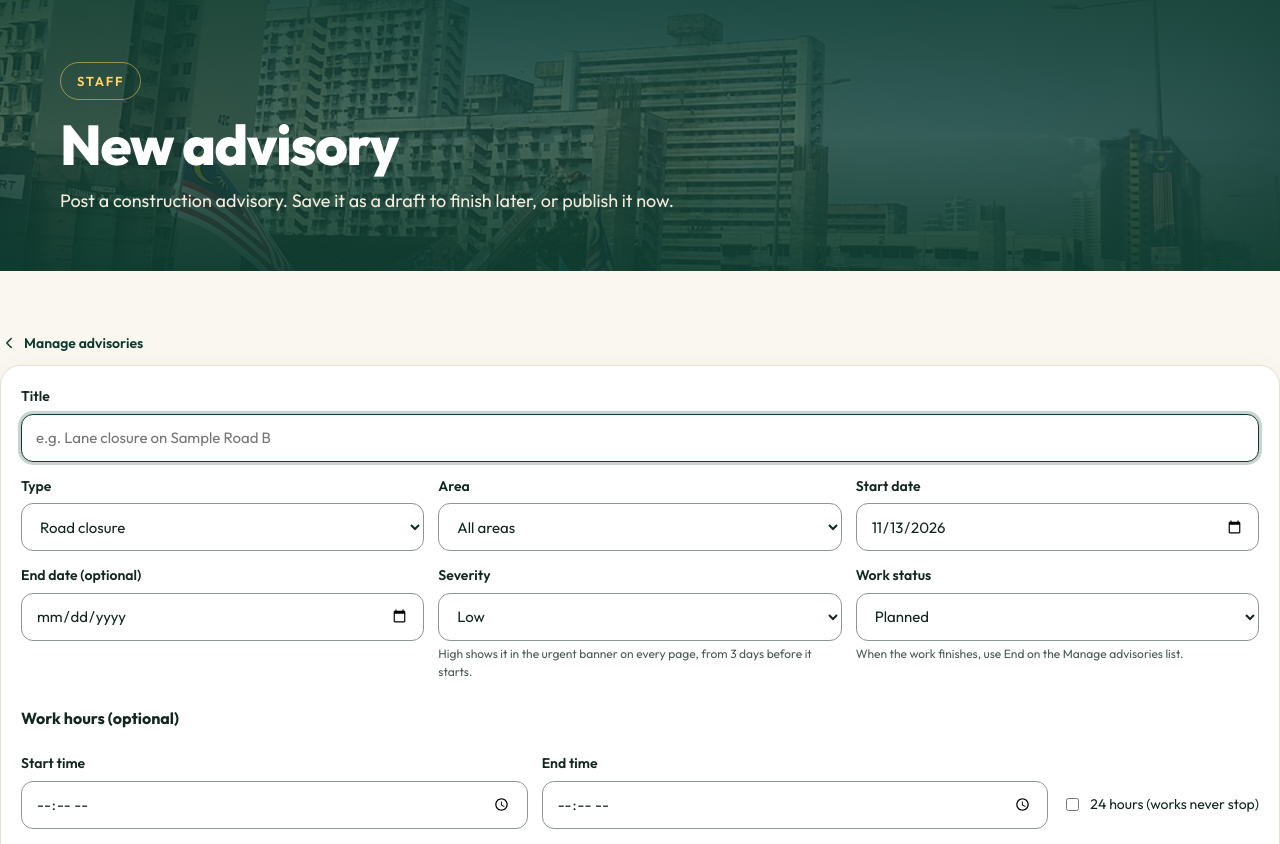
Test: Advisory form: the work hours pickers › refuses the same start and end time
Type "Night lane closure" into the field labelled "Title" at (640, 438), box [21,414,1259,462]
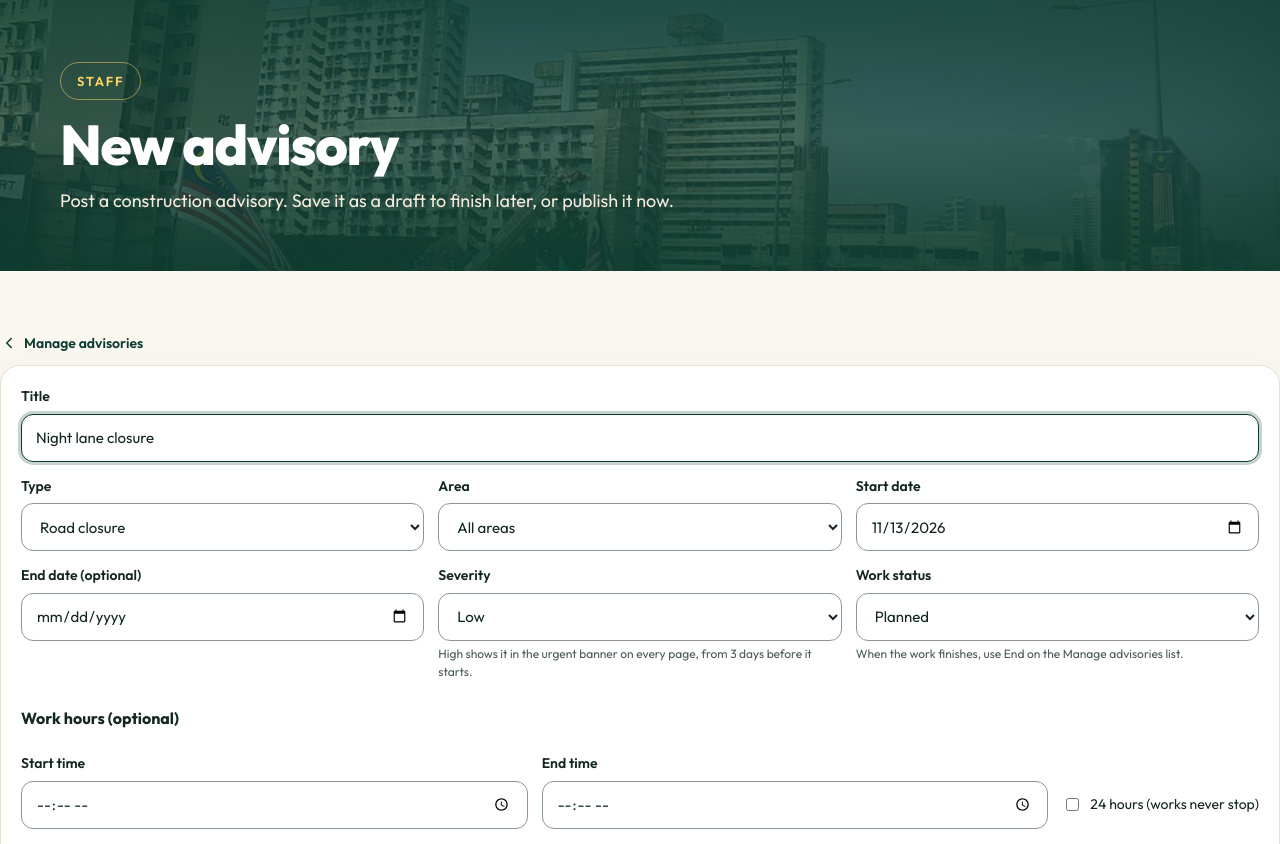
Type "09:00" into the time field labelled "Start time" at (274, 805), box [21,781,528,829]
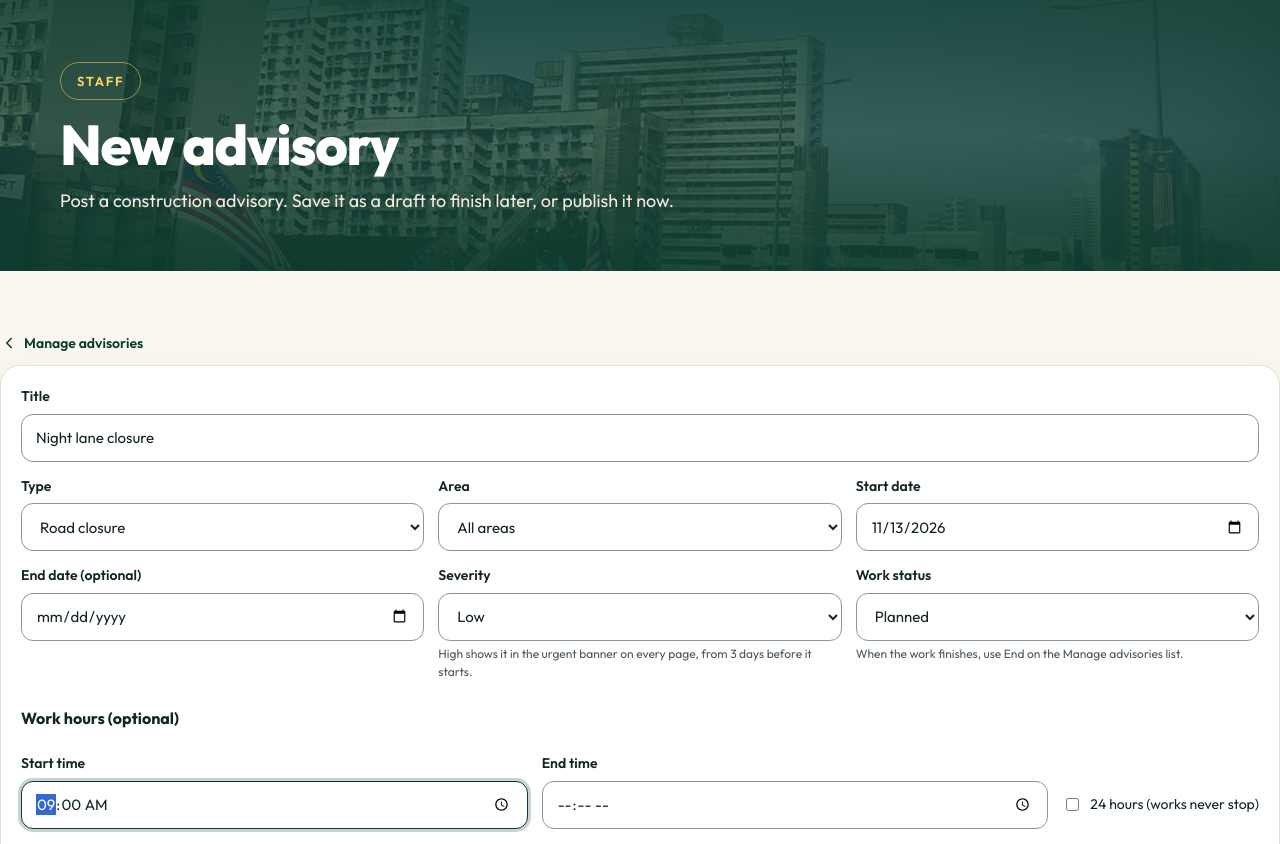
Type "09:00" into the time field labelled "End time" at (795, 805), box [542,781,1048,829]
(page scrolled)
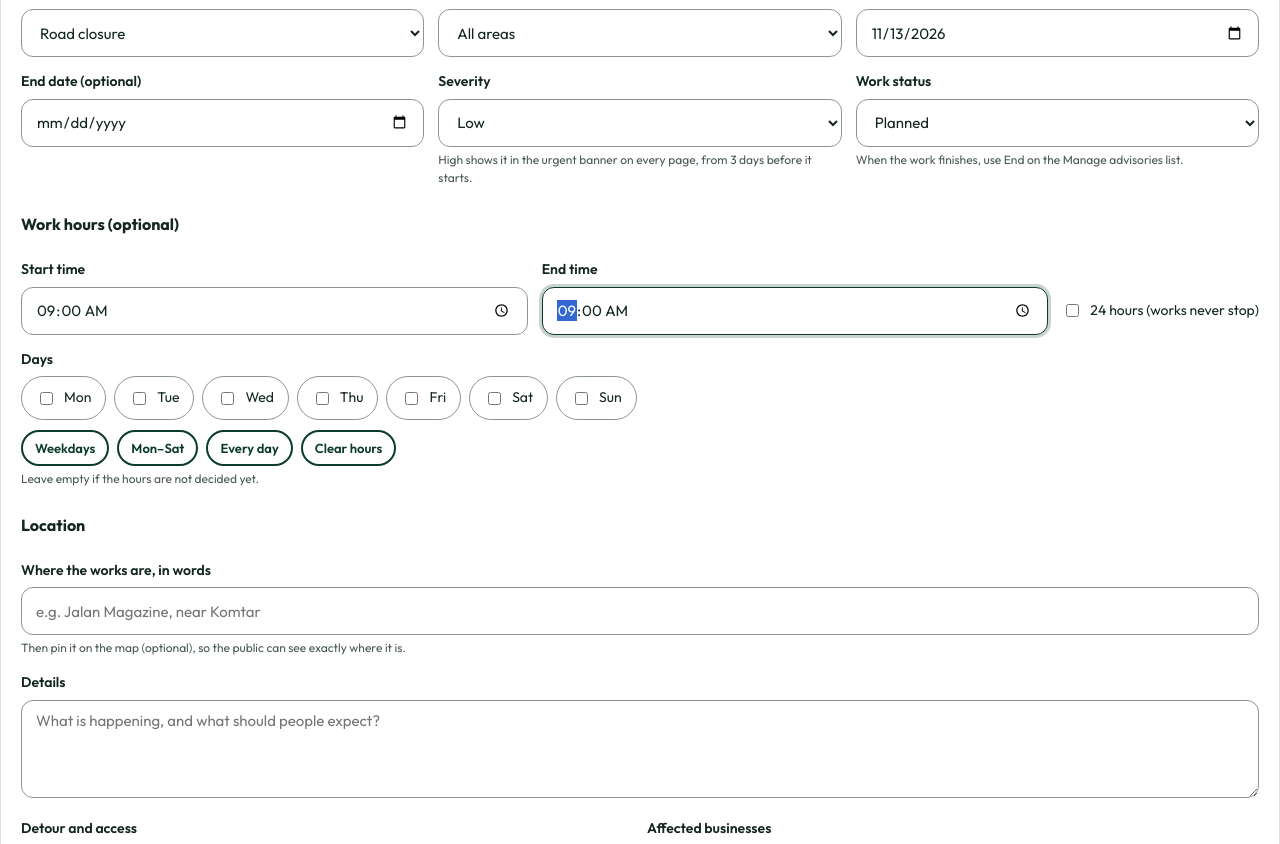
Click the button "Every day" at (250, 448), box [206,430,293,466]
(page scrolled)
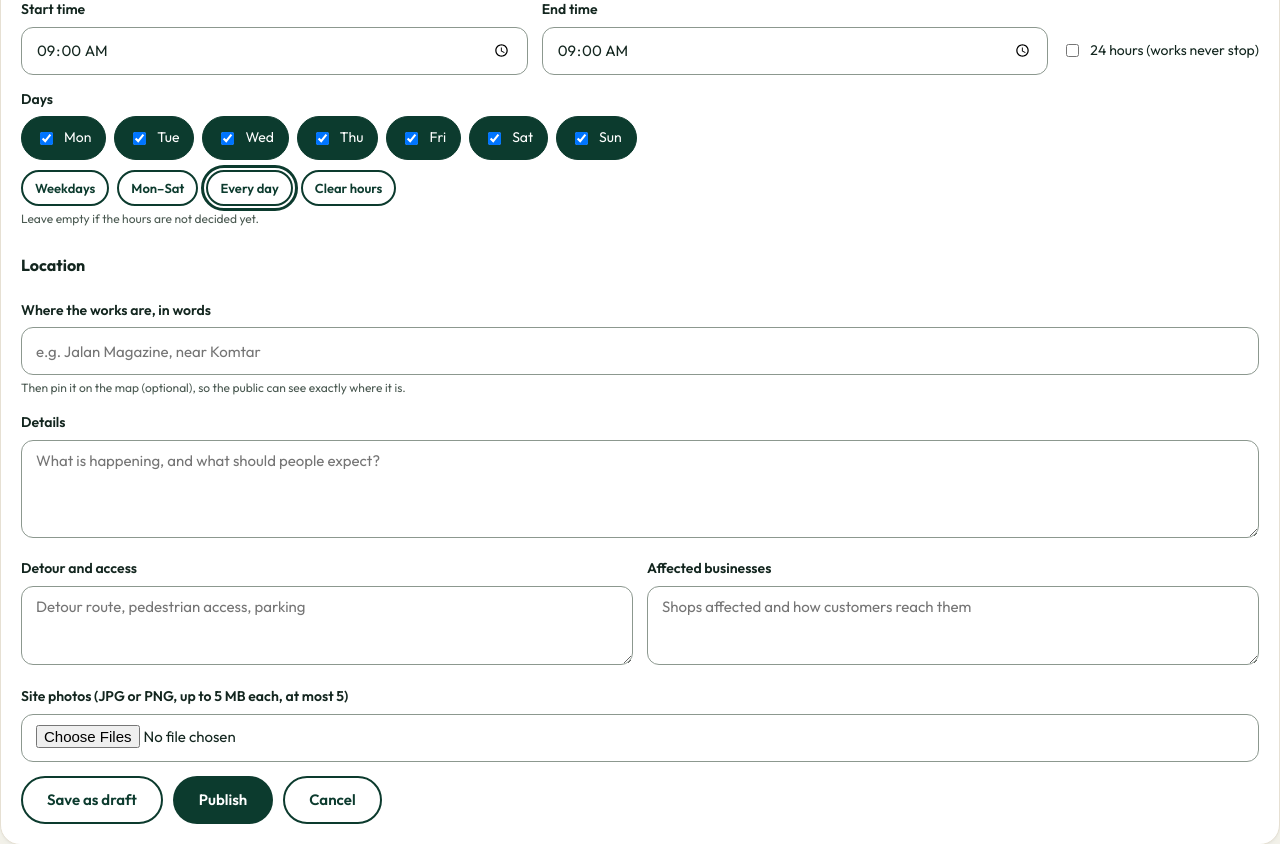
Click the button "Save as draft" at (92, 800), box [21,776,163,824]
(page scrolled)
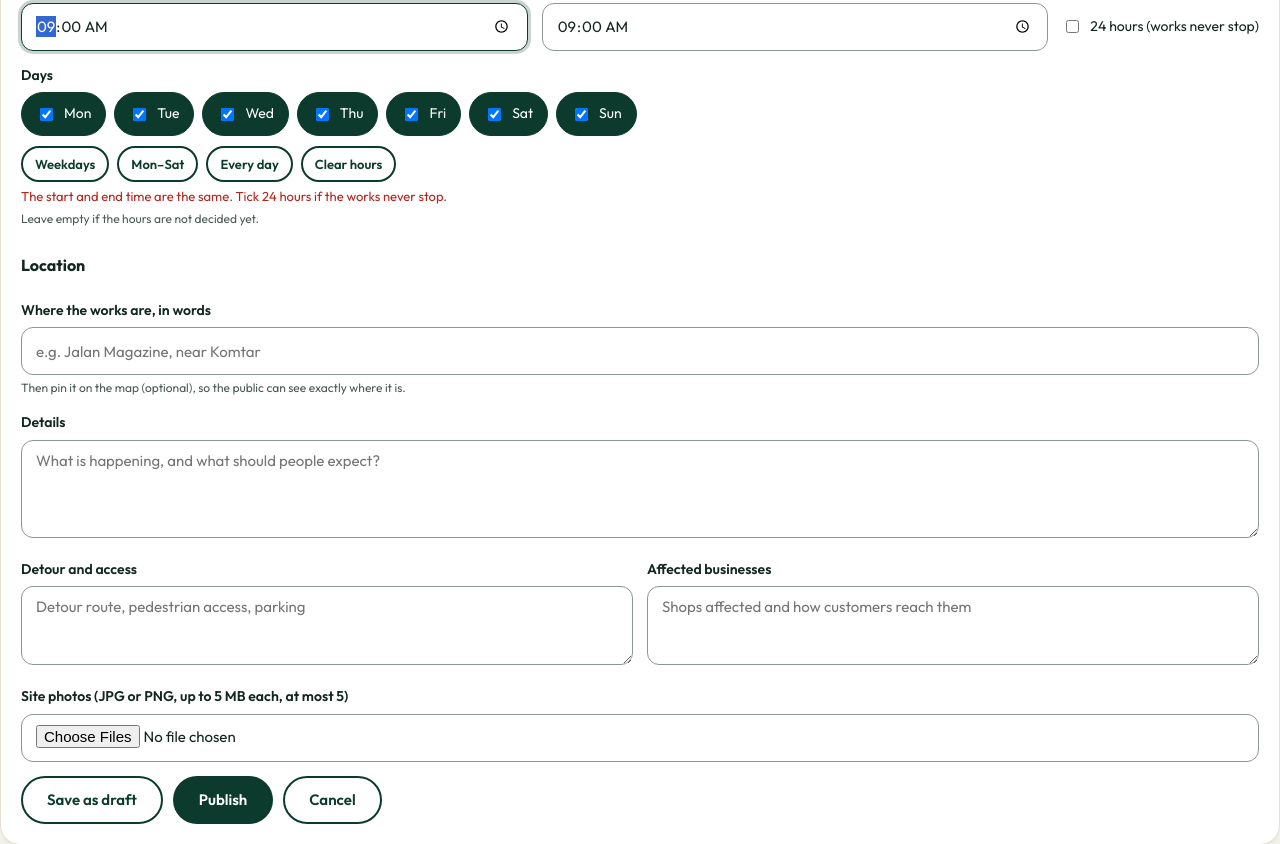
Now the text "The start and end time are the same" is shown, box [21,188,447,204]
